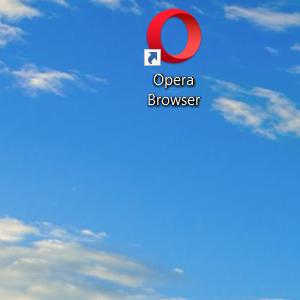opera: (144, 9, 203, 67)
